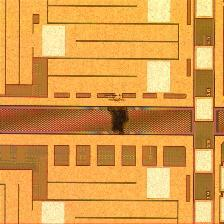PARTICLE: (96, 96, 146, 148)
